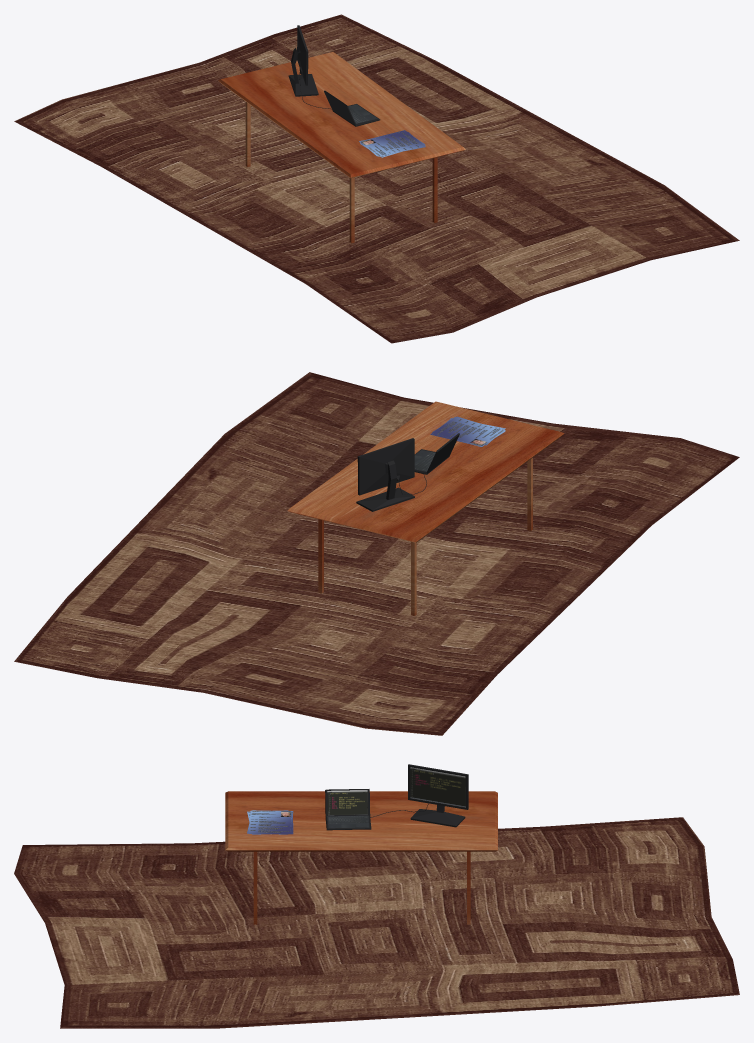
File: schreibtischfull.gltf
3 renders of one model, top to bottom at view 1: azimuth 30°, elevation 25°; view 2: azimuth 150°, elevation 25°; view 3: azimuth 270°, elevation 25°, orthographic. The views are drawn at different scales.
Visible parts, largest first — view 1: Cube; view 2: Cube; view 3: Cube.
Part boxes in pixels (x1=…): Cube: x1=14, y1=14, x2=739, y2=343; Cube: x1=14, y1=372, x2=739, y2=735; Cube: x1=14, y1=764, x2=739, y2=1028.
Size of the model in its own units: 11.26 by 3.3 by 16.33.
Materials: 10 (9 with a texture image).
